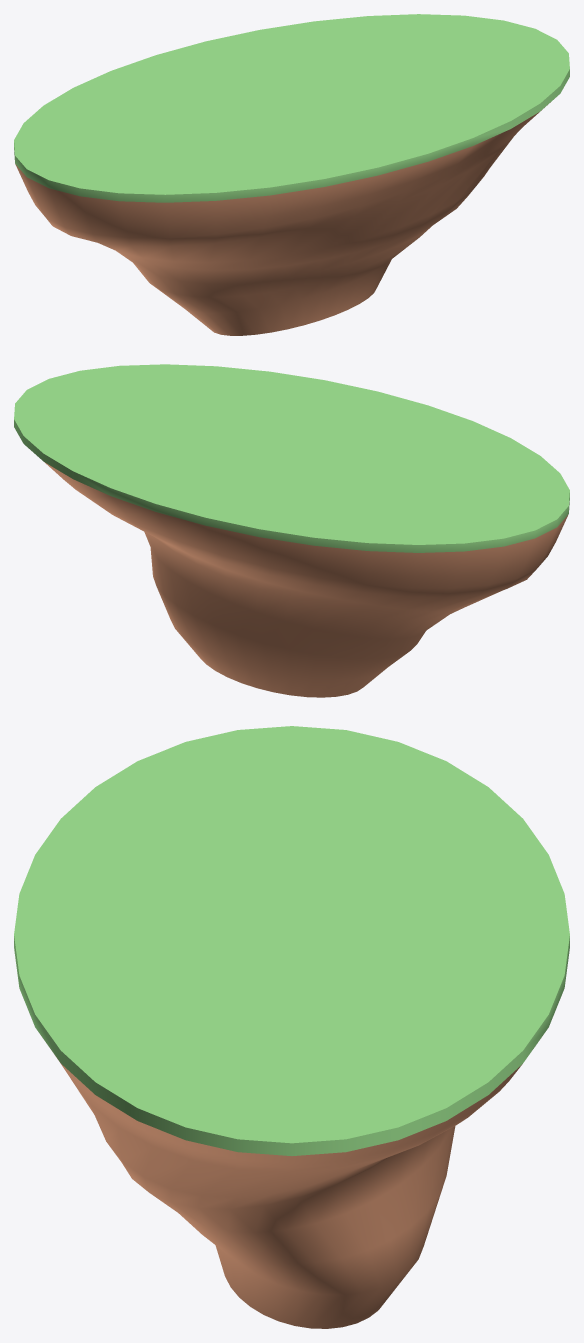
Rendered from prototipeBaseLevel.fbx.
The picture shows the model from 3 angles, top to bottom: view 1: azimuth 30°, elevation 25°; view 2: azimuth 150°, elevation 25°; view 3: azimuth 270°, elevation 25°; orthographic projection. The views are drawn at different scales.
Parts seen in each view (by area): view 1: Cylinder; view 2: Cylinder; view 3: Cylinder.
Boxes of the visible parts, left/top/right/bottom form: Cylinder: left=14, top=14, right=569, bottom=335; Cylinder: left=14, top=364, right=569, bottom=697; Cylinder: left=14, top=726, right=569, bottom=1328.
Bounding box in the file's own units: 1913 × 739 × 1077.
